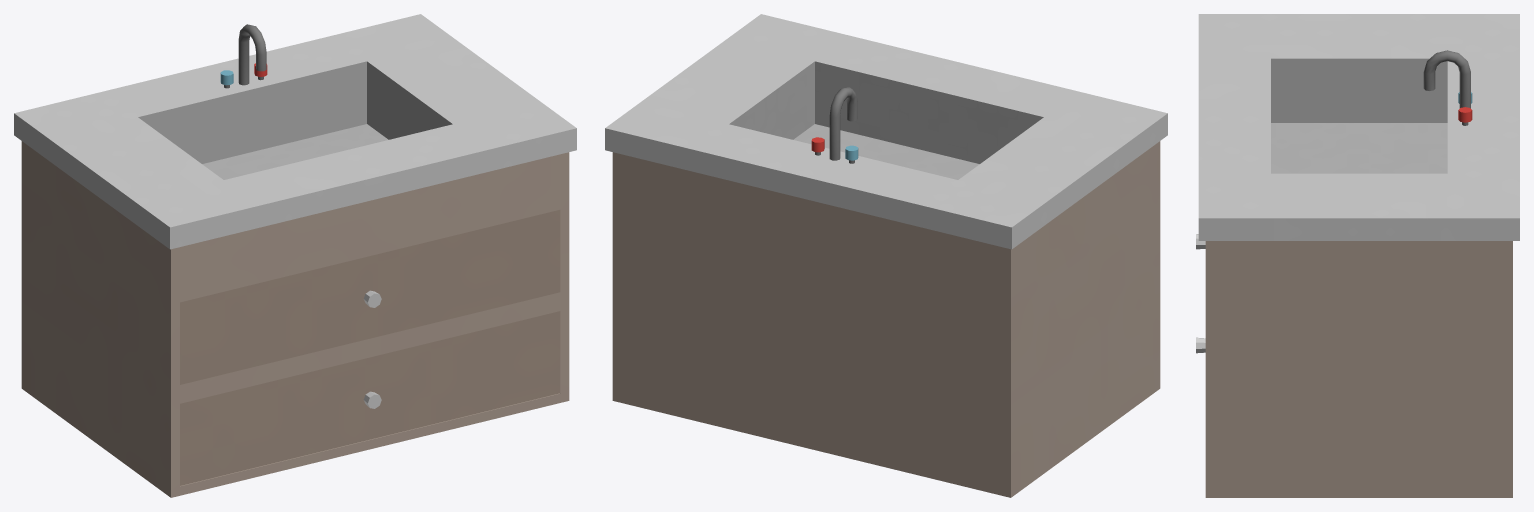
Rendered from Toilet_Sink_03.fbx.
3 renders of one model, left to right at view 1: azimuth 30°, elevation 25°; view 2: azimuth 150°, elevation 25°; view 3: azimuth 270°, elevation 25°, orthographic. The views are drawn at different scales.
Parts seen in each view (by area): view 1: Toilet_Sink_03, Toilet_Sink_03_Drawer, Toilet_Sink_03_Drawer.001; view 2: Toilet_Sink_03; view 3: Toilet_Sink_03.
Part boxes in pixels (box(x1,y1,x2,y2)): Toilet_Sink_03: box(14, 14, 576, 497); Toilet_Sink_03_Drawer: box(180, 210, 560, 384); Toilet_Sink_03_Drawer.001: box(180, 311, 560, 485); Toilet_Sink_03: box(605, 14, 1167, 497); Toilet_Sink_03: box(1198, 14, 1519, 497).
Size of the model in its own units: 1.32 by 1.05 by 0.8854.
